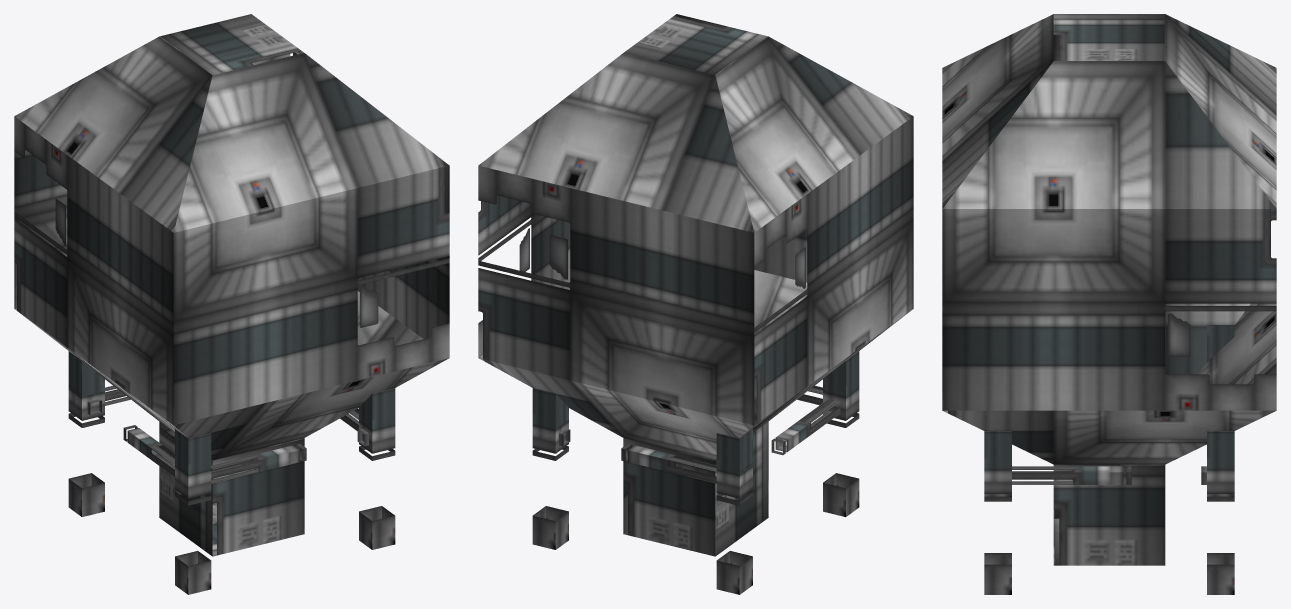
The model's file is steel_sheetmetal_tank.obj.
The picture shows the model from 3 angles, left to right: view 1: azimuth 30°, elevation 25°; view 2: azimuth 150°, elevation 25°; view 3: azimuth 270°, elevation 25°; orthographic projection. The views are drawn at different scales.
Parts seen in each view (by area): view 1: cube; view 2: cube; view 3: cube.
Boxes of the visible parts, x1,y1,x2,y2 form: cube: [14, 14, 449, 594]; cube: [478, 14, 913, 594]; cube: [942, 14, 1276, 594].
Size of the model in its own units: 3 by 5 by 3.
